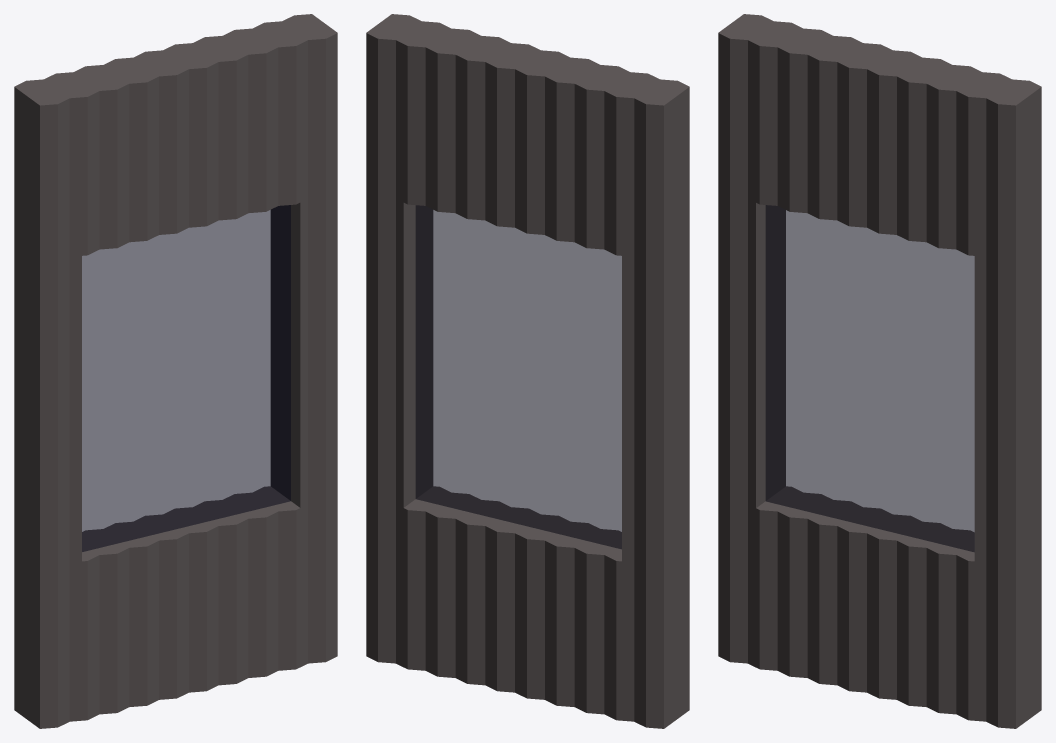
Rendered from CorrugatedMetalWindow.glb.
The picture shows the model from 3 angles, left to right: view 1: azimuth 30°, elevation 25°; view 2: azimuth 150°, elevation 25°; view 3: azimuth 330°, elevation 25°; orthographic projection.
Parts seen in each view (by area): view 1: wall_corregated_window; view 2: wall_corregated_window; view 3: wall_corregated_window.
Boxes of the visible parts, box(x1,y1,x2,y2) form: wall_corregated_window: box(14, 14, 337, 728); wall_corregated_window: box(366, 14, 689, 728); wall_corregated_window: box(718, 14, 1041, 728).
Size of what is drawn, in the model's own units: 2 by 4 by 0.3712.
Materials: 2 (2 with a texture image).
